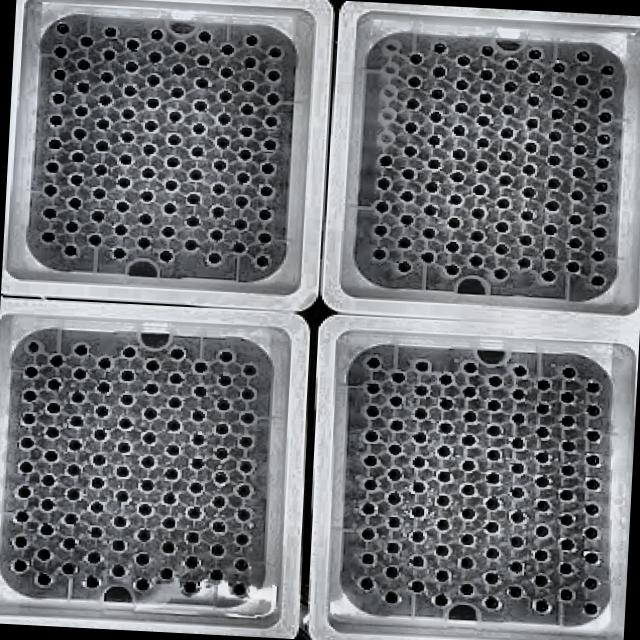vial: (216, 350, 237, 366), (370, 246, 390, 262), (357, 552, 377, 568), (120, 344, 138, 361), (461, 360, 480, 376), (359, 502, 378, 518), (431, 592, 450, 608), (87, 500, 106, 516), (207, 568, 226, 584), (408, 554, 428, 569), (456, 556, 476, 571), (572, 96, 590, 112), (558, 512, 576, 528), (357, 576, 375, 592), (169, 346, 187, 362), (62, 510, 80, 526), (70, 150, 88, 166), (533, 499, 552, 514), (483, 496, 502, 511), (42, 449, 61, 464), (16, 461, 35, 476), (183, 530, 202, 545), (496, 126, 516, 140), (532, 476, 552, 490), (242, 34, 262, 48), (584, 452, 601, 468), (459, 482, 476, 498), (458, 582, 475, 598), (187, 480, 204, 496), (182, 580, 199, 596), (386, 467, 404, 482), (459, 459, 477, 474), (435, 469, 453, 484), (558, 463, 576, 478), (385, 491, 403, 506), (410, 481, 428, 496), (409, 505, 427, 520), (384, 515, 402, 530), (508, 510, 526, 525), (532, 599, 550, 614), (408, 580, 426, 595), (96, 356, 114, 371), (142, 382, 160, 397), (213, 422, 231, 437), (164, 442, 182, 457), (84, 574, 102, 589), (59, 561, 77, 576), (208, 543, 226, 558), (134, 578, 152, 593), (582, 502, 601, 516), (532, 525, 551, 539), (432, 544, 451, 558), (505, 586, 524, 600), (481, 572, 500, 586), (482, 596, 501, 610), (382, 566, 401, 580), (383, 590, 402, 604), (165, 396, 184, 410), (14, 484, 33, 498), (232, 557, 251, 571), (559, 366, 579, 379), (20, 436, 36, 452), (90, 208, 106, 224), (520, 185, 537, 200), (414, 359, 431, 374), (238, 387, 255, 402), (91, 453, 108, 468), (41, 473, 58, 488), (12, 535, 29, 550), (36, 573, 53, 588), (474, 114, 492, 128), (520, 162, 538, 176), (450, 148, 468, 162), (422, 204, 440, 218), (420, 227, 438, 241), (468, 229, 486, 243), (444, 240, 462, 254), (512, 364, 530, 378), (412, 384, 430, 398), (437, 397, 455, 411), (412, 407, 430, 421), (460, 434, 478, 448), (410, 456, 428, 470), (362, 454, 380, 468), (362, 478, 380, 492), (508, 462, 526, 476), (508, 486, 526, 500), (484, 472, 502, 486), (583, 478, 601, 492), (433, 494, 451, 508), (559, 538, 577, 552), (556, 562, 574, 576), (532, 549, 550, 563), (458, 533, 476, 547), (433, 518, 451, 532), (384, 541, 402, 555), (360, 528, 378, 542), (434, 569, 452, 583), (20, 390, 38, 404), (68, 391, 86, 405), (167, 372, 185, 386), (190, 385, 208, 399), (214, 398, 232, 412), (68, 415, 86, 429), (44, 401, 62, 415), (188, 433, 206, 447), (235, 484, 253, 498), (162, 468, 180, 482), (234, 509, 252, 523), (210, 520, 228, 534), (109, 564, 127, 578), (54, 22, 72, 36), (170, 40, 188, 54), (170, 63, 188, 77), (146, 50, 164, 64), (124, 60, 142, 74), (256, 185, 274, 199), (186, 168, 204, 182), (256, 208, 274, 222), (61, 537, 80, 550), (551, 84, 567, 99), (396, 261, 412, 276), (366, 356, 382, 371), (48, 353, 64, 368), (66, 463, 82, 478), (196, 30, 212, 45), (144, 96, 160, 111), (406, 76, 423, 90), (499, 104, 516, 118), (451, 124, 468, 138), (596, 110, 613, 124), (571, 122, 588, 136), (471, 184, 488, 198), (492, 267, 509, 281), (444, 264, 461, 278), (411, 432, 428, 446), (364, 430, 381, 444), (459, 507, 476, 521), (583, 551, 600, 565), (409, 530, 426, 544), (144, 359, 161, 373), (216, 374, 233, 388), (119, 393, 136, 407), (239, 412, 256, 426), (190, 409, 207, 423), (166, 419, 183, 433), (67, 438, 84, 452), (21, 412, 38, 426), (115, 466, 132, 480), (213, 446, 230, 460), (237, 460, 254, 474), (139, 478, 156, 492), (114, 490, 131, 504), (137, 503, 154, 517), (161, 542, 178, 556), (134, 552, 151, 566), (160, 516, 177, 530), (234, 533, 251, 547), (183, 556, 200, 570), (158, 567, 175, 581), (233, 582, 250, 596), (149, 28, 166, 42), (102, 26, 119, 40), (101, 48, 118, 62), (75, 58, 92, 72), (192, 99, 209, 113), (238, 102, 255, 116), (234, 171, 251, 185), (255, 232, 272, 246), (44, 160, 61, 174), (42, 184, 59, 198), (253, 255, 270, 269), (206, 252, 223, 266), (406, 53, 424, 66), (404, 98, 422, 111), (461, 411, 479, 424), (482, 521, 500, 534), (94, 381, 112, 394), (89, 476, 107, 489), (266, 47, 284, 60), (242, 57, 260, 70), (262, 115, 280, 128), (68, 174, 86, 187), (391, 369, 406, 384), (487, 424, 502, 439), (432, 66, 448, 80), (454, 78, 470, 92), (478, 44, 494, 58), (528, 48, 544, 62), (574, 50, 590, 64), (502, 80, 518, 94), (478, 91, 494, 105), (524, 117, 540, 131), (476, 137, 492, 151), (524, 141, 540, 155), (596, 134, 612, 148), (498, 150, 514, 164), (426, 158, 442, 172), (378, 154, 394, 168), (496, 197, 512, 211), (565, 260, 581, 274), (586, 381, 602, 395), (364, 382, 380, 396), (462, 386, 478, 400), (388, 394, 404, 408), (364, 404, 380, 418), (389, 419, 405, 433), (436, 444, 452, 458), (486, 448, 502, 462), (508, 560, 524, 574), (558, 588, 574, 602), (582, 602, 598, 616), (532, 574, 548, 588), (24, 364, 38, 380), (120, 369, 136, 383), (94, 404, 110, 418), (92, 428, 108, 442), (44, 426, 60, 440), (140, 454, 156, 468), (190, 458, 206, 472), (212, 471, 228, 485), (40, 498, 56, 512), (112, 515, 128, 529), (136, 528, 152, 542), (111, 539, 127, 553), (37, 546, 51, 562), (78, 35, 94, 49), (196, 54, 212, 68), (52, 46, 68, 60), (170, 86, 186, 100), (120, 107, 136, 121), (238, 126, 254, 140), (142, 119, 158, 133), (140, 167, 156, 181), (48, 138, 64, 152), (162, 202, 178, 216), (112, 223, 128, 237), (66, 197, 82, 211), (64, 244, 80, 258), (526, 72, 543, 85), (472, 160, 489, 173), (402, 145, 419, 158), (447, 193, 464, 206), (420, 251, 437, 264), (517, 234, 534, 247), (488, 375, 505, 388), (582, 527, 599, 540), (508, 536, 525, 549), (582, 577, 599, 590), (185, 506, 202, 519), (39, 523, 56, 536), (265, 69, 282, 82), (237, 148, 254, 161), (233, 195, 250, 208), (163, 180, 180, 193), (230, 242, 247, 255), (436, 422, 454, 434), (142, 408, 160, 420), (140, 432, 158, 444), (72, 128, 90, 140), (182, 240, 200, 252), (454, 100, 469, 114), (428, 110, 443, 124), (548, 130, 563, 144), (401, 168, 416, 182), (374, 224, 389, 238), (494, 243, 509, 257), (438, 372, 453, 386), (242, 364, 257, 378), (126, 37, 140, 52), (99, 70, 114, 84), (97, 118, 112, 132), (138, 212, 153, 226), (503, 58, 519, 71), (598, 86, 614, 99), (550, 108, 566, 121), (497, 174, 513, 187), (570, 167, 586, 180), (546, 177, 562, 190), (592, 181, 608, 194), (424, 180, 440, 193), (398, 214, 414, 227), (471, 207, 487, 220), (592, 227, 608, 240), (567, 237, 583, 250), (516, 257, 532, 270), (511, 389, 527, 402), (510, 436, 526, 449), (118, 418, 134, 431), (66, 489, 82, 502), (88, 526, 104, 539), (212, 496, 228, 509), (87, 551, 103, 564), (14, 510, 30, 523), (220, 43, 236, 56), (122, 85, 138, 98), (262, 139, 278, 152), (216, 135, 232, 148), (48, 115, 64, 128), (186, 192, 202, 205), (93, 164, 109, 177), (64, 220, 80, 233), (449, 172, 466, 184), (519, 210, 536, 222), (534, 426, 551, 438), (192, 362, 209, 374), (238, 436, 255, 448), (193, 78, 210, 90), (138, 190, 155, 202), (433, 42, 447, 56), (575, 74, 589, 88), (480, 68, 494, 82), (430, 88, 444, 102), (218, 89, 232, 103), (168, 110, 182, 124), (192, 123, 206, 137), (234, 218, 248, 232), (162, 226, 176, 240), (138, 236, 152, 250), (403, 122, 418, 135), (547, 154, 562, 167), (595, 157, 610, 170), (469, 254, 484, 267), (537, 378, 552, 391), (559, 489, 574, 502), (147, 74, 162, 87), (121, 131, 136, 144), (165, 156, 180, 169), (96, 140, 111, 153), (210, 205, 225, 218), (117, 177, 132, 190), (210, 229, 225, 242), (88, 235, 103, 248), (454, 56, 470, 68), (572, 144, 588, 156), (568, 190, 584, 202), (399, 190, 415, 202), (446, 218, 462, 230), (542, 248, 558, 260), (540, 270, 556, 282), (591, 250, 607, 262), (590, 276, 606, 288), (584, 430, 600, 442), (387, 444, 403, 456), (536, 452, 552, 464), (484, 548, 500, 560), (73, 344, 89, 356), (47, 378, 63, 390), (72, 368, 88, 380), (116, 442, 132, 454), (12, 560, 28, 572), (240, 80, 256, 92), (166, 134, 182, 146), (189, 146, 205, 158), (212, 160, 228, 172), (141, 144, 157, 156), (118, 154, 134, 166), (185, 216, 201, 228), (42, 208, 58, 220), (552, 61, 566, 74), (526, 95, 540, 108), (546, 200, 560, 213), (375, 200, 389, 213), (396, 237, 410, 250), (592, 202, 606, 215), (568, 213, 582, 226), (544, 223, 558, 236), (512, 411, 526, 424), (74, 105, 88, 118), (260, 162, 274, 175), (212, 183, 226, 196), (116, 200, 130, 213), (112, 247, 126, 260), (41, 231, 55, 244), (426, 134, 441, 146), (376, 178, 391, 190), (494, 222, 509, 234), (560, 392, 575, 404), (560, 441, 575, 453), (160, 494, 178, 504), (217, 112, 232, 124), (96, 95, 112, 106), (587, 405, 601, 417), (562, 416, 576, 428), (488, 399, 502, 411), (220, 68, 234, 80), (53, 70, 67, 82), (76, 82, 90, 94), (92, 188, 106, 200), (266, 94, 281, 105), (52, 92, 65, 104), (160, 250, 173, 262), (601, 65, 615, 76), (537, 403, 551, 414)
